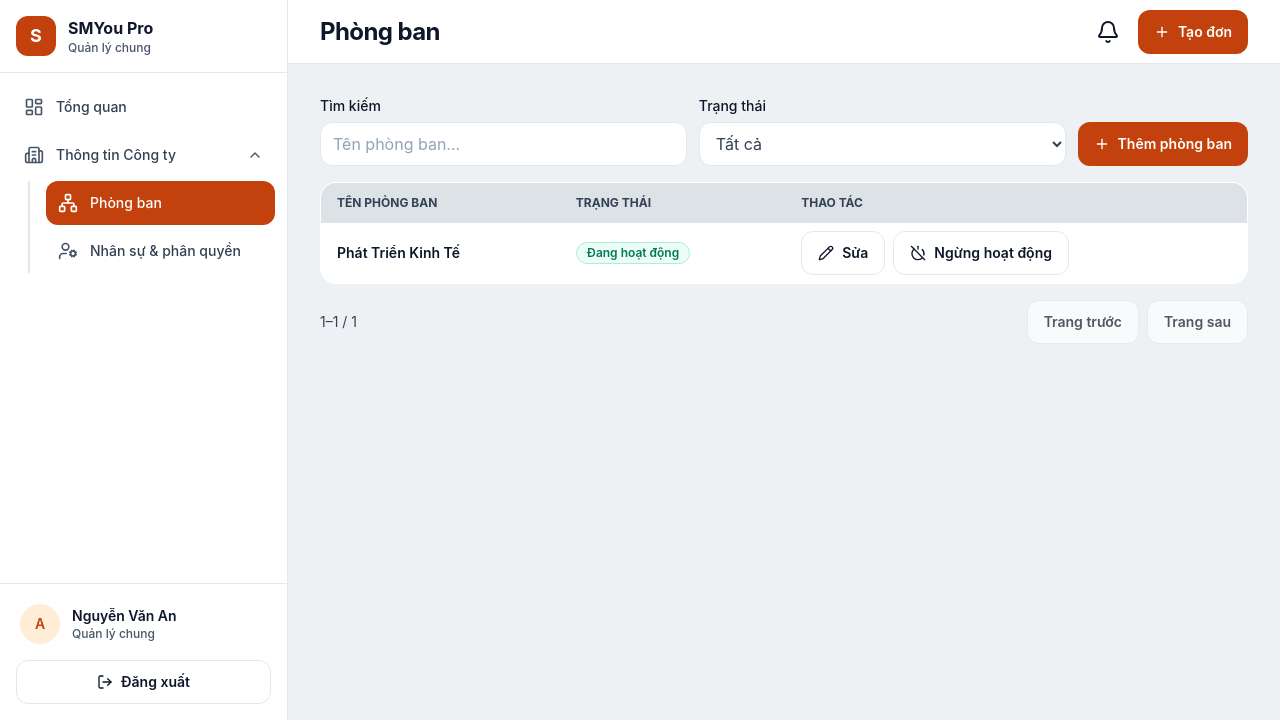
AC-EMP-050 ngừng / mở lại hoạt động › dữ liệu cũ (STALE_VERSION) → toast yêu cầu tải lại, badge giữ nguyên
The width and height of the screenshot is (1280, 720).
Click the button "Ngừng hoạt động": (981, 253) [893, 231, 1069, 275]
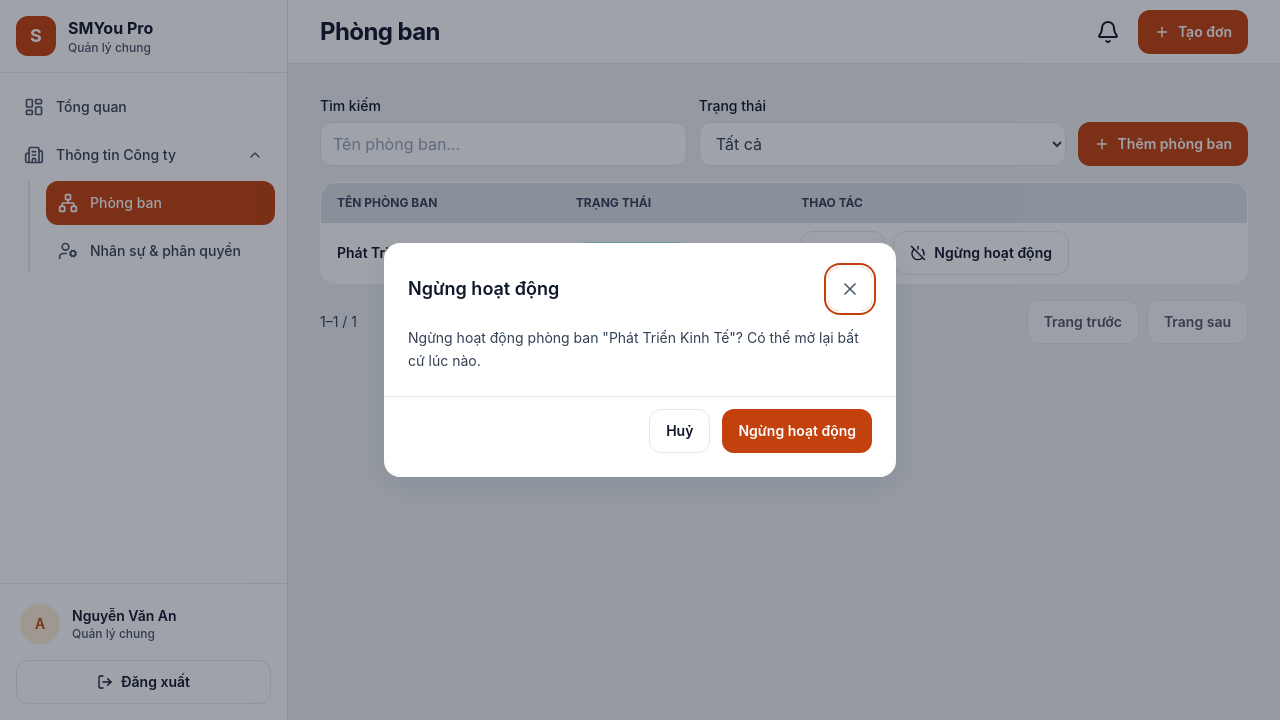
Click the button "Ngừng hoạt động": (797, 431) [722, 409, 872, 453]
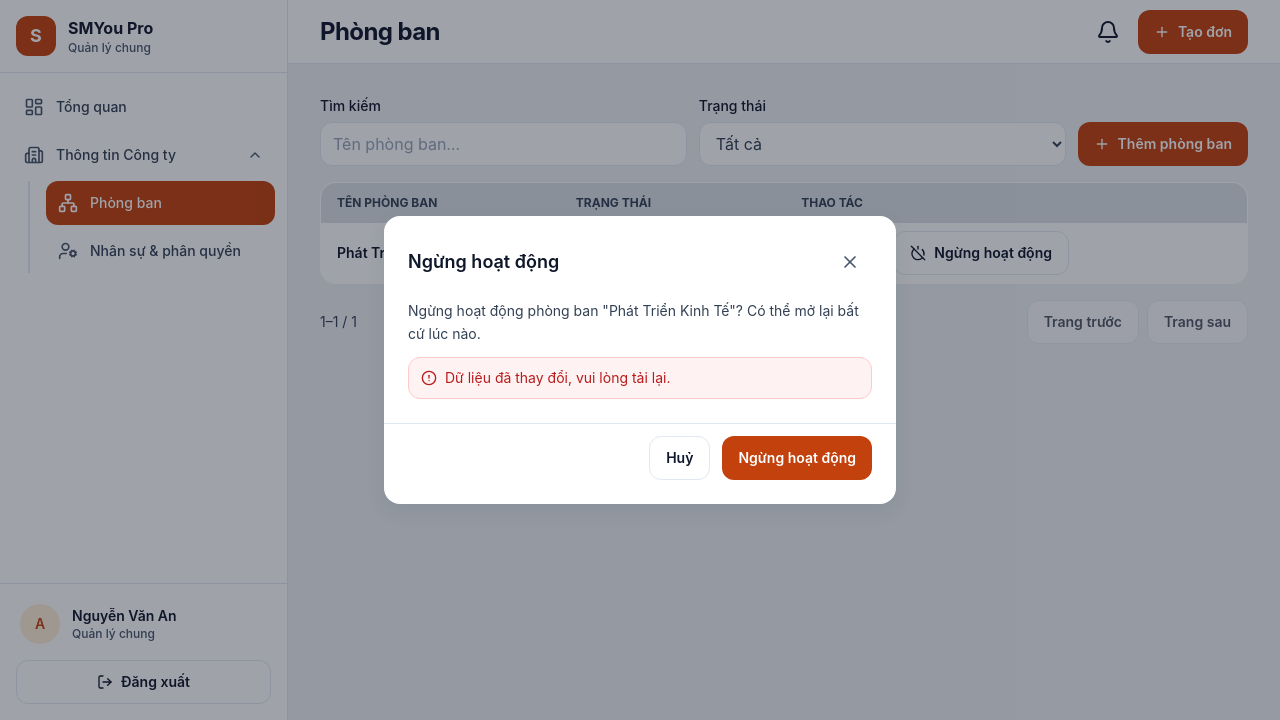
Expected: the text "Dữ liệu đã thay đổi, vui lòng tải lại." is shown, [445, 368, 670, 388]
